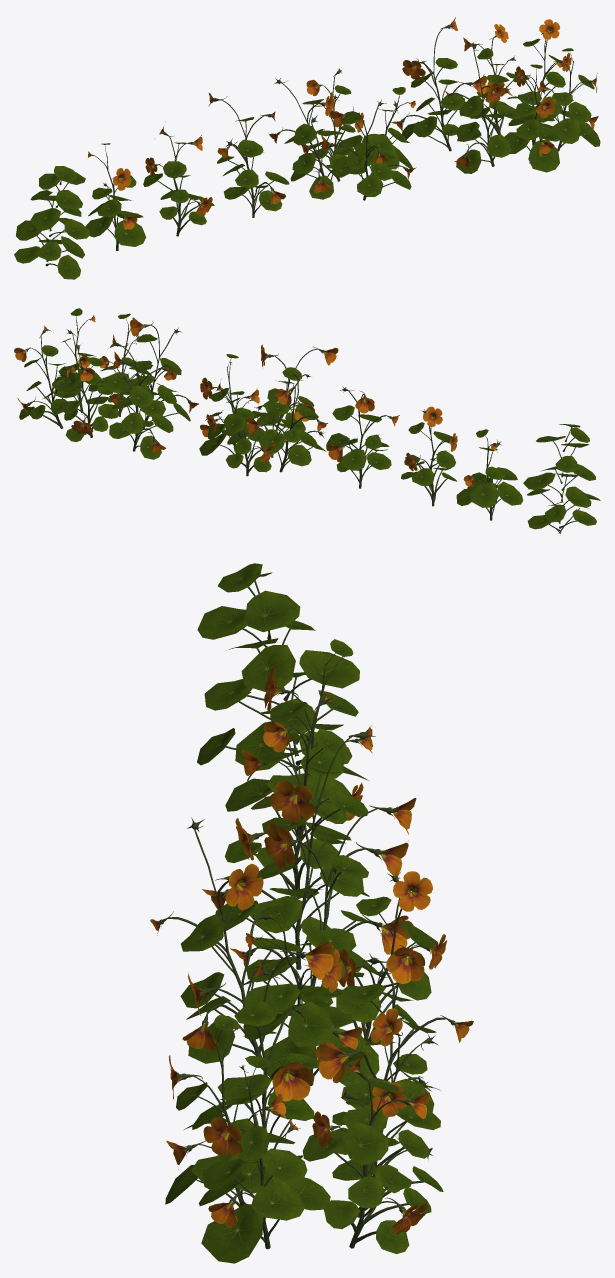
File: nasturtium.glb
The picture shows the model from 3 angles, top to bottom: view 1: azimuth 30°, elevation 25°; view 2: azimuth 150°, elevation 25°; view 3: azimuth 270°, elevation 25°; orthographic projection. The views are drawn at different scales.
Visible parts, largest first — view 1: nasturtium002; view 2: nasturtium002; view 3: nasturtium002.
Boxes of the visible parts, <box> form: nasturtium002: <box>14,17,600,279</box>; nasturtium002: <box>14,308,600,533</box>; nasturtium002: <box>150,563,473,1263</box>.
Bounding box in the file's own units: 143 × 30.15 × 37.54.
3 materials, 3 textured.
